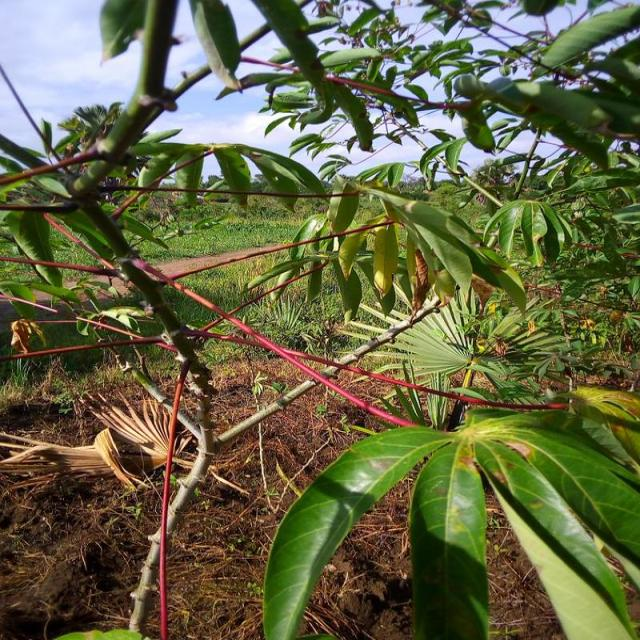cassava leaf: (262, 387, 638, 638), (261, 423, 454, 638), (408, 436, 489, 638)
